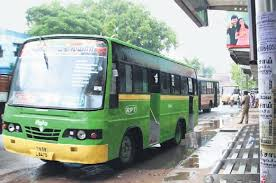bus: (1, 33, 202, 171), (192, 76, 223, 112)
